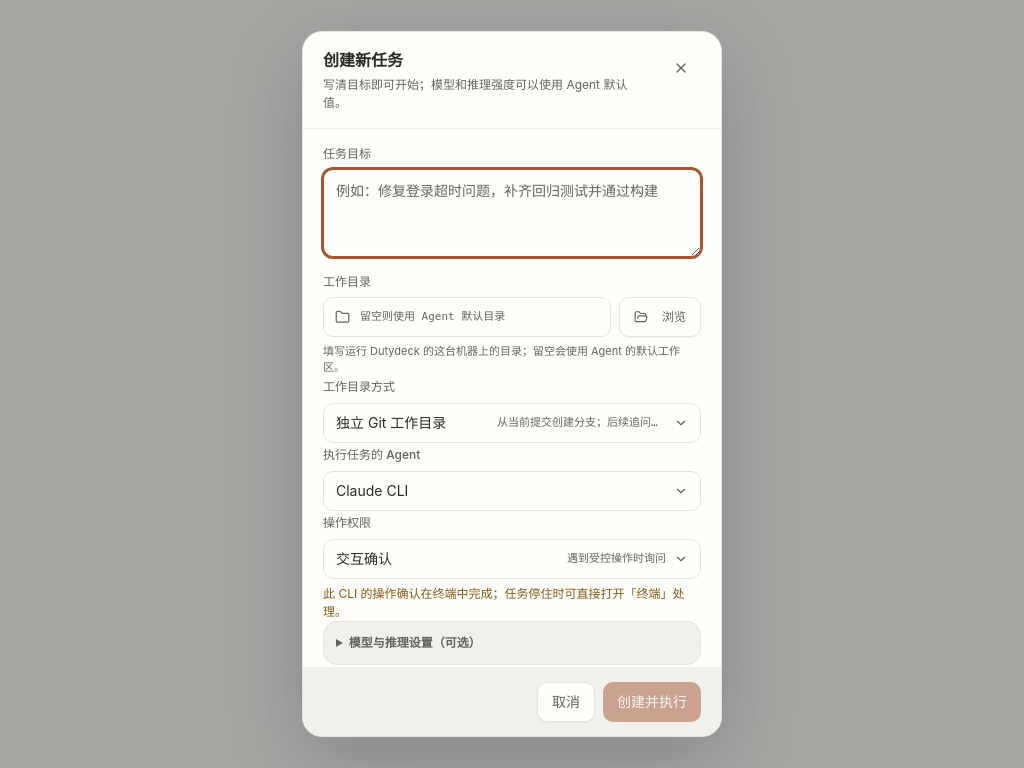
Test: NewSessionModal create → dispatch › PTY 只暴露真实支持的权限姿态，并说明交互确认发生在终端
Expected: the text "此 CLI 的操作确认在终端中完成；任务停住时可直接打开「终端」处理。" is shown, 323,585 -> 701,621
Click the text "交互确认": (364, 558) 336,550 -> 392,567
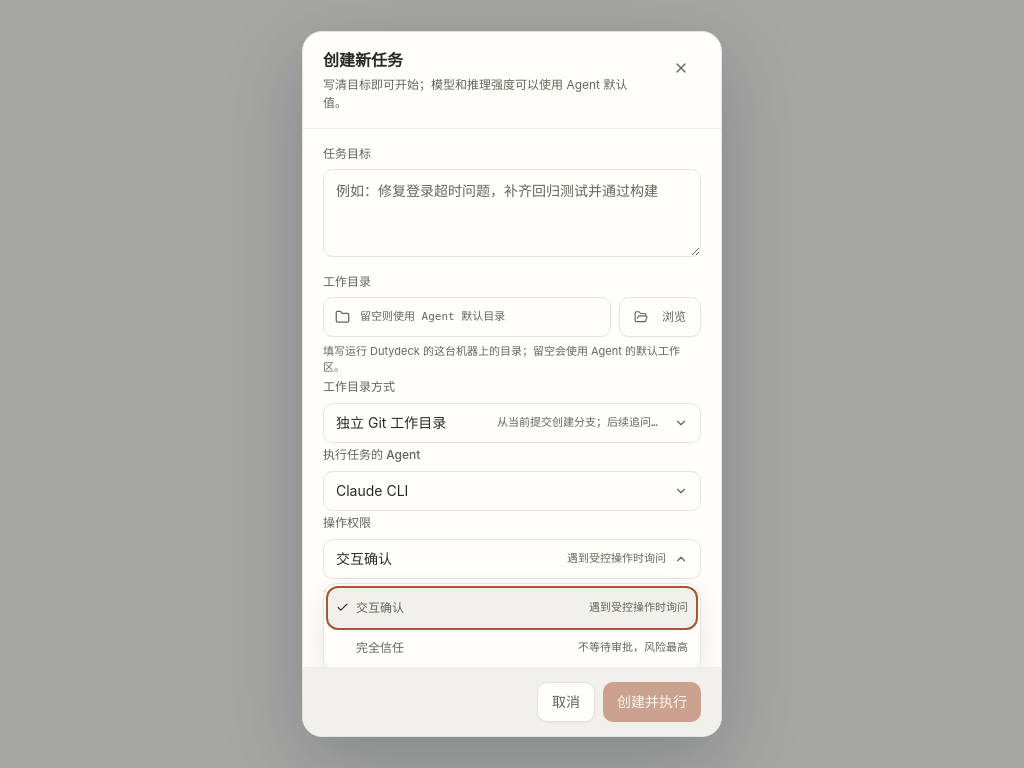
Expected: the text "完全信任" is shown, 356,640 -> 404,655
